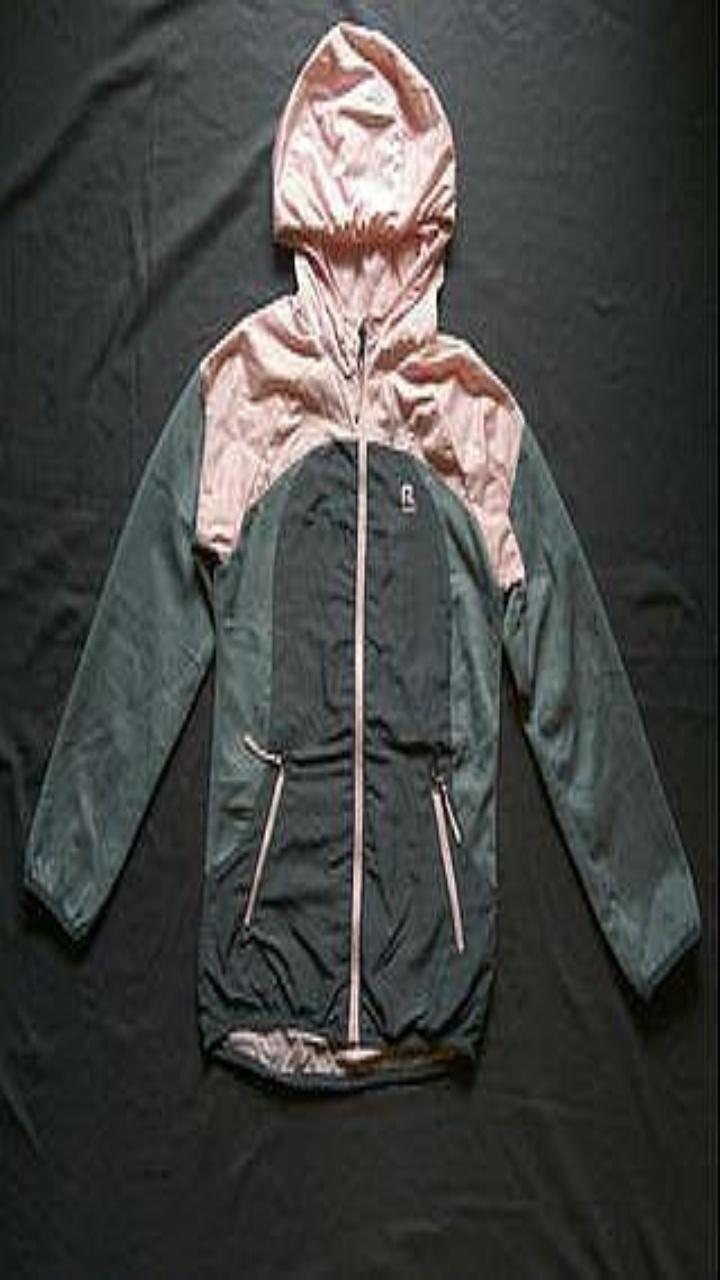Sports_Jacket: (24, 21, 700, 1088)
